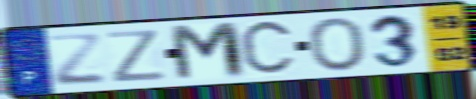3: (368, 11, 426, 71)
C: (237, 17, 298, 80)
M: (167, 20, 250, 84)
O: (306, 16, 369, 73)
Z: (104, 28, 170, 85), (45, 32, 108, 88)
